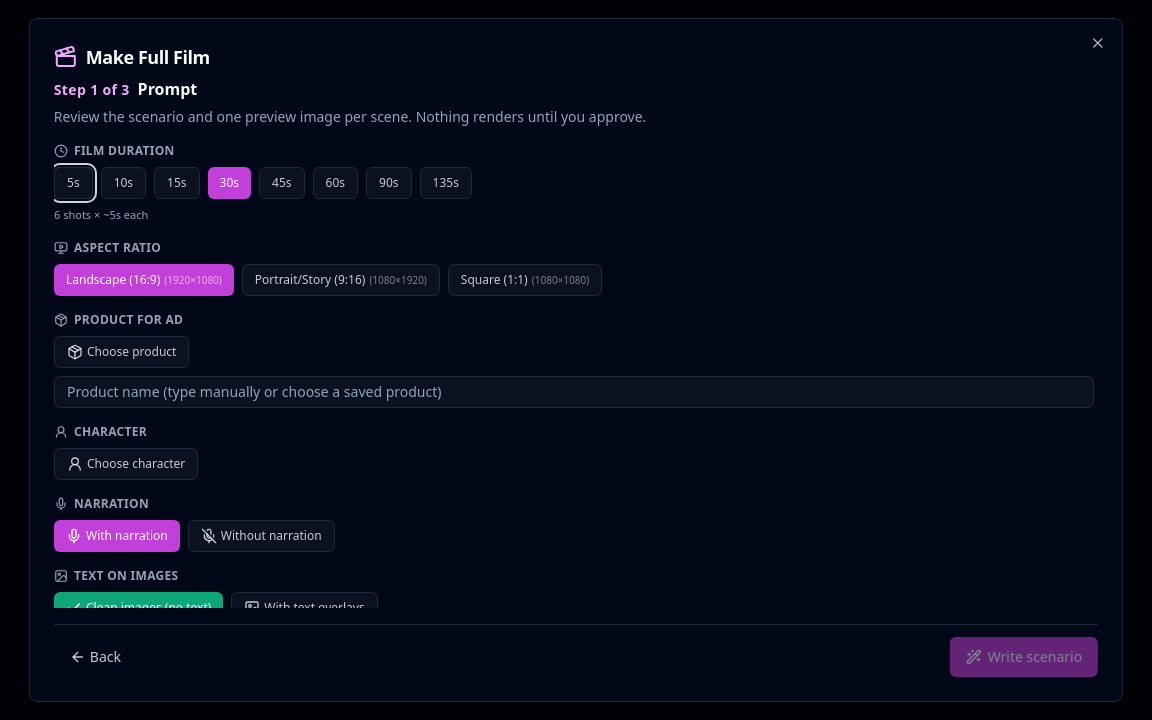
Test: Product Picker image retry › card is disabled before onLoad and selection is blocked
Click the button "Choose product": (122, 352) [54,336,189,368]
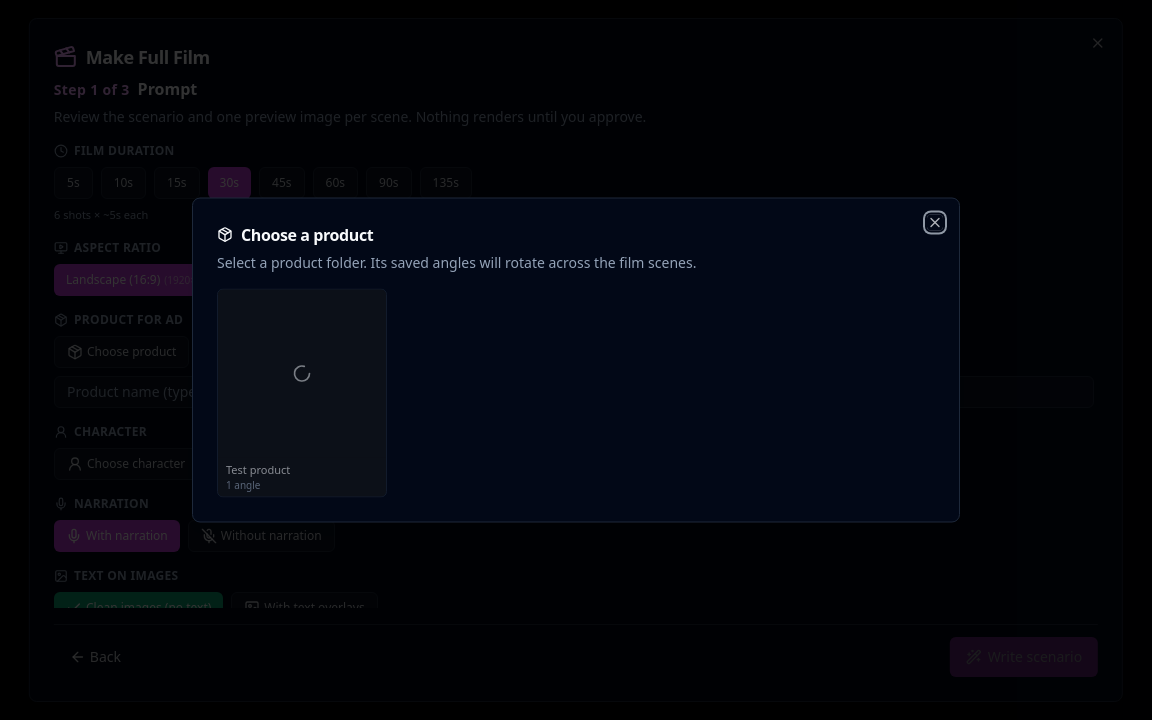
Expected: the text "Test product" is shown
# Card is still loading — clicking should not close the dialog.
Click the text "Test product": (258, 468) [226,461,290,476]
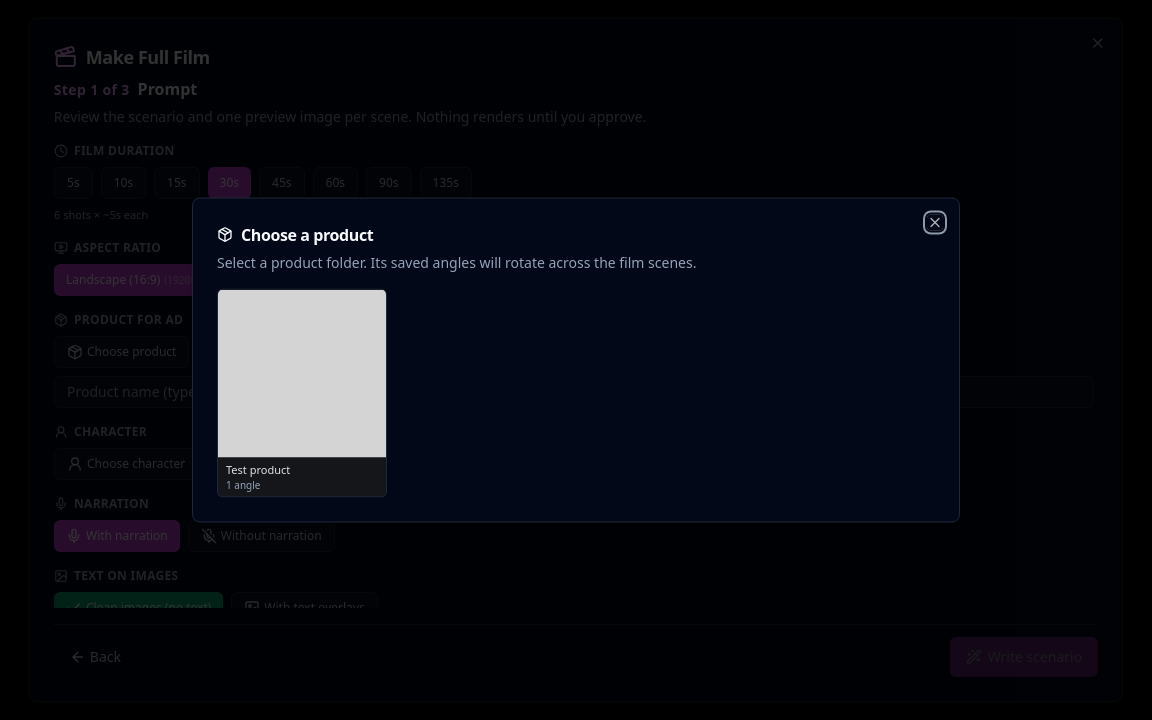
Expected: the button "Choose product" is shown, [54,336,189,368]
# Card is selectable in 'ready' state (before onLoad).
Click the text "Test product": (258, 468) [226,461,290,476]
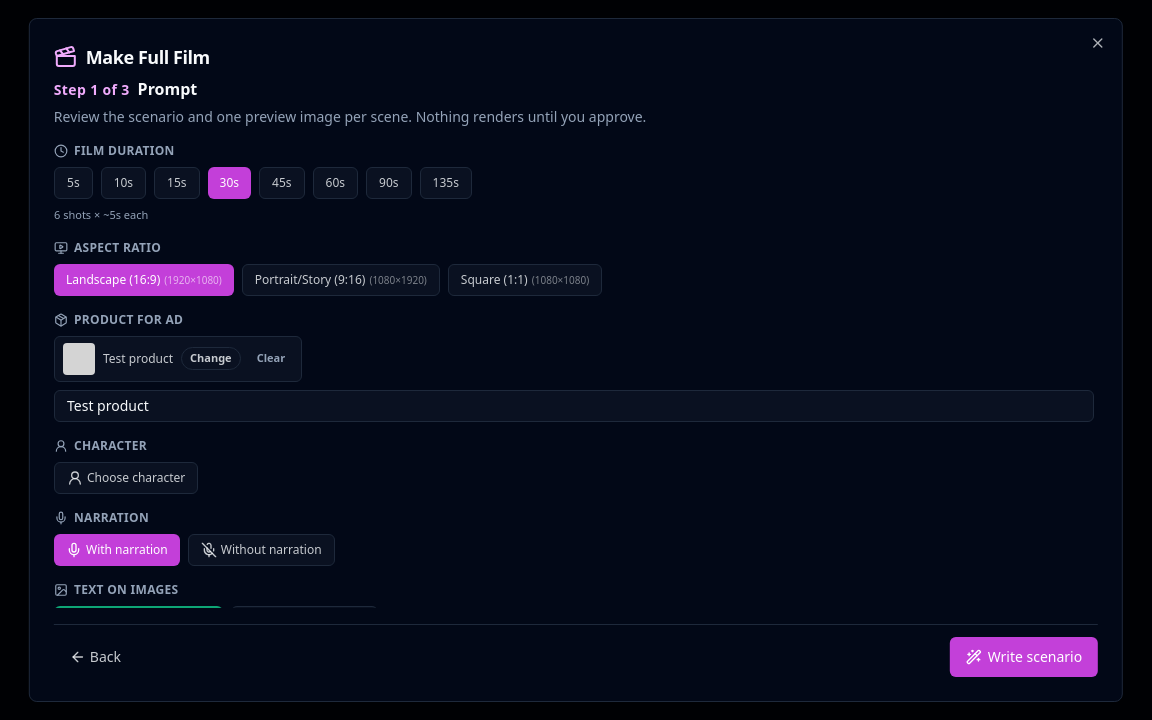
Expected: the button "Choose product" is gone
